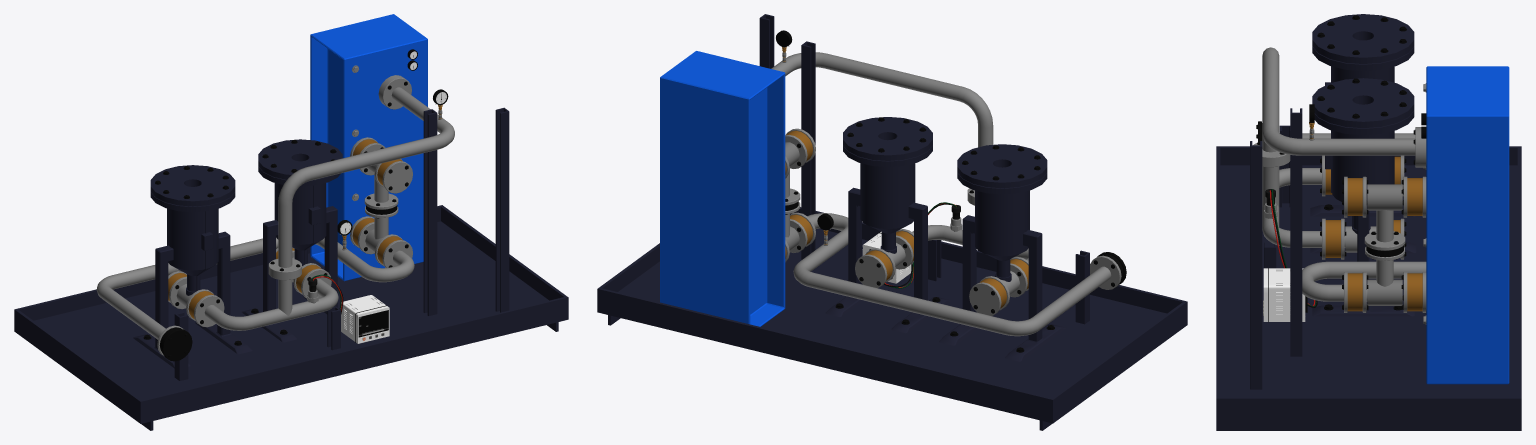
3 views of the same model, side by side, from view 1: azimuth 30°, elevation 25°; view 2: azimuth 150°, elevation 25°; view 3: azimuth 270°, elevation 25° (orthographic). The views are drawn at different scales.
Parts seen in each view (by area): view 1: Box041, Box046, Cylinder147, Cylinder146, Rectangle009, 압력센서, Rectangle011, Rectangle007, Box040, Cylinder156, indicator, Cylinder152 (+4 smaller); view 2: Box041, Box046, Cylinder147, Cylinder146, Rectangle011, 압력센서, Rectangle009, Cylinder149, Cylinder153, Rectangle007, Cylinder161; view 3: Box041, Box046, Cylinder146, 압력센서, Cylinder147, Rectangle009, Rectangle011, Box040, Rectangle007, Rectangle012, Cylinder158, Cylinder151 (+6 smaller).
Part boxes in pixels (x1,y1,x2,y2): Box041: (14,107,568,430); Box046: (310,14,427,281); Cylinder147: (133,165,252,368); Cylinder146: (241,139,342,342); Rectangle009: (278,87,454,316); 압력센서: (143,51,446,361); Rectangle011: (96,237,414,339); Rectangle007: (204,279,338,330); Box040: (340,295,389,343); Cylinder156: (374,159,412,193); indicator: (355,305,388,342); Cylinder152: (186,289,224,327); Box041: (597,14,1187,430); Box046: (660,51,785,326); Cylinder147: (939,144,1065,361); Cylinder146: (825,117,950,333); Rectangle011: (793,213,1111,336); 압력센서: (782,47,1126,352); Rectangle009: (771,52,993,147); Cylinder149: (855,248,895,288); Cylinder153: (969,276,1009,315); Rectangle007: (912,225,1028,260); Cylinder161: (1090,255,1121,289); Box041: (1216,108,1521,430); Box046: (1426,66,1509,384); Cylinder146: (1312,78,1414,316); 압력센서: (1256,15,1426,324); Cylinder147: (1310,14,1416,253); Rectangle009: (1262,47,1415,206); Rectangle011: (1302,133,1426,301); Box040: (1263,268,1305,321); Rectangle007: (1262,168,1345,247); Rectangle012: (1376,210,1393,286); Cylinder158: (1364,231,1405,260); Cylinder151: (1415,127,1426,167).
Bounding box in the file's own units: 244 × 131 × 125.
